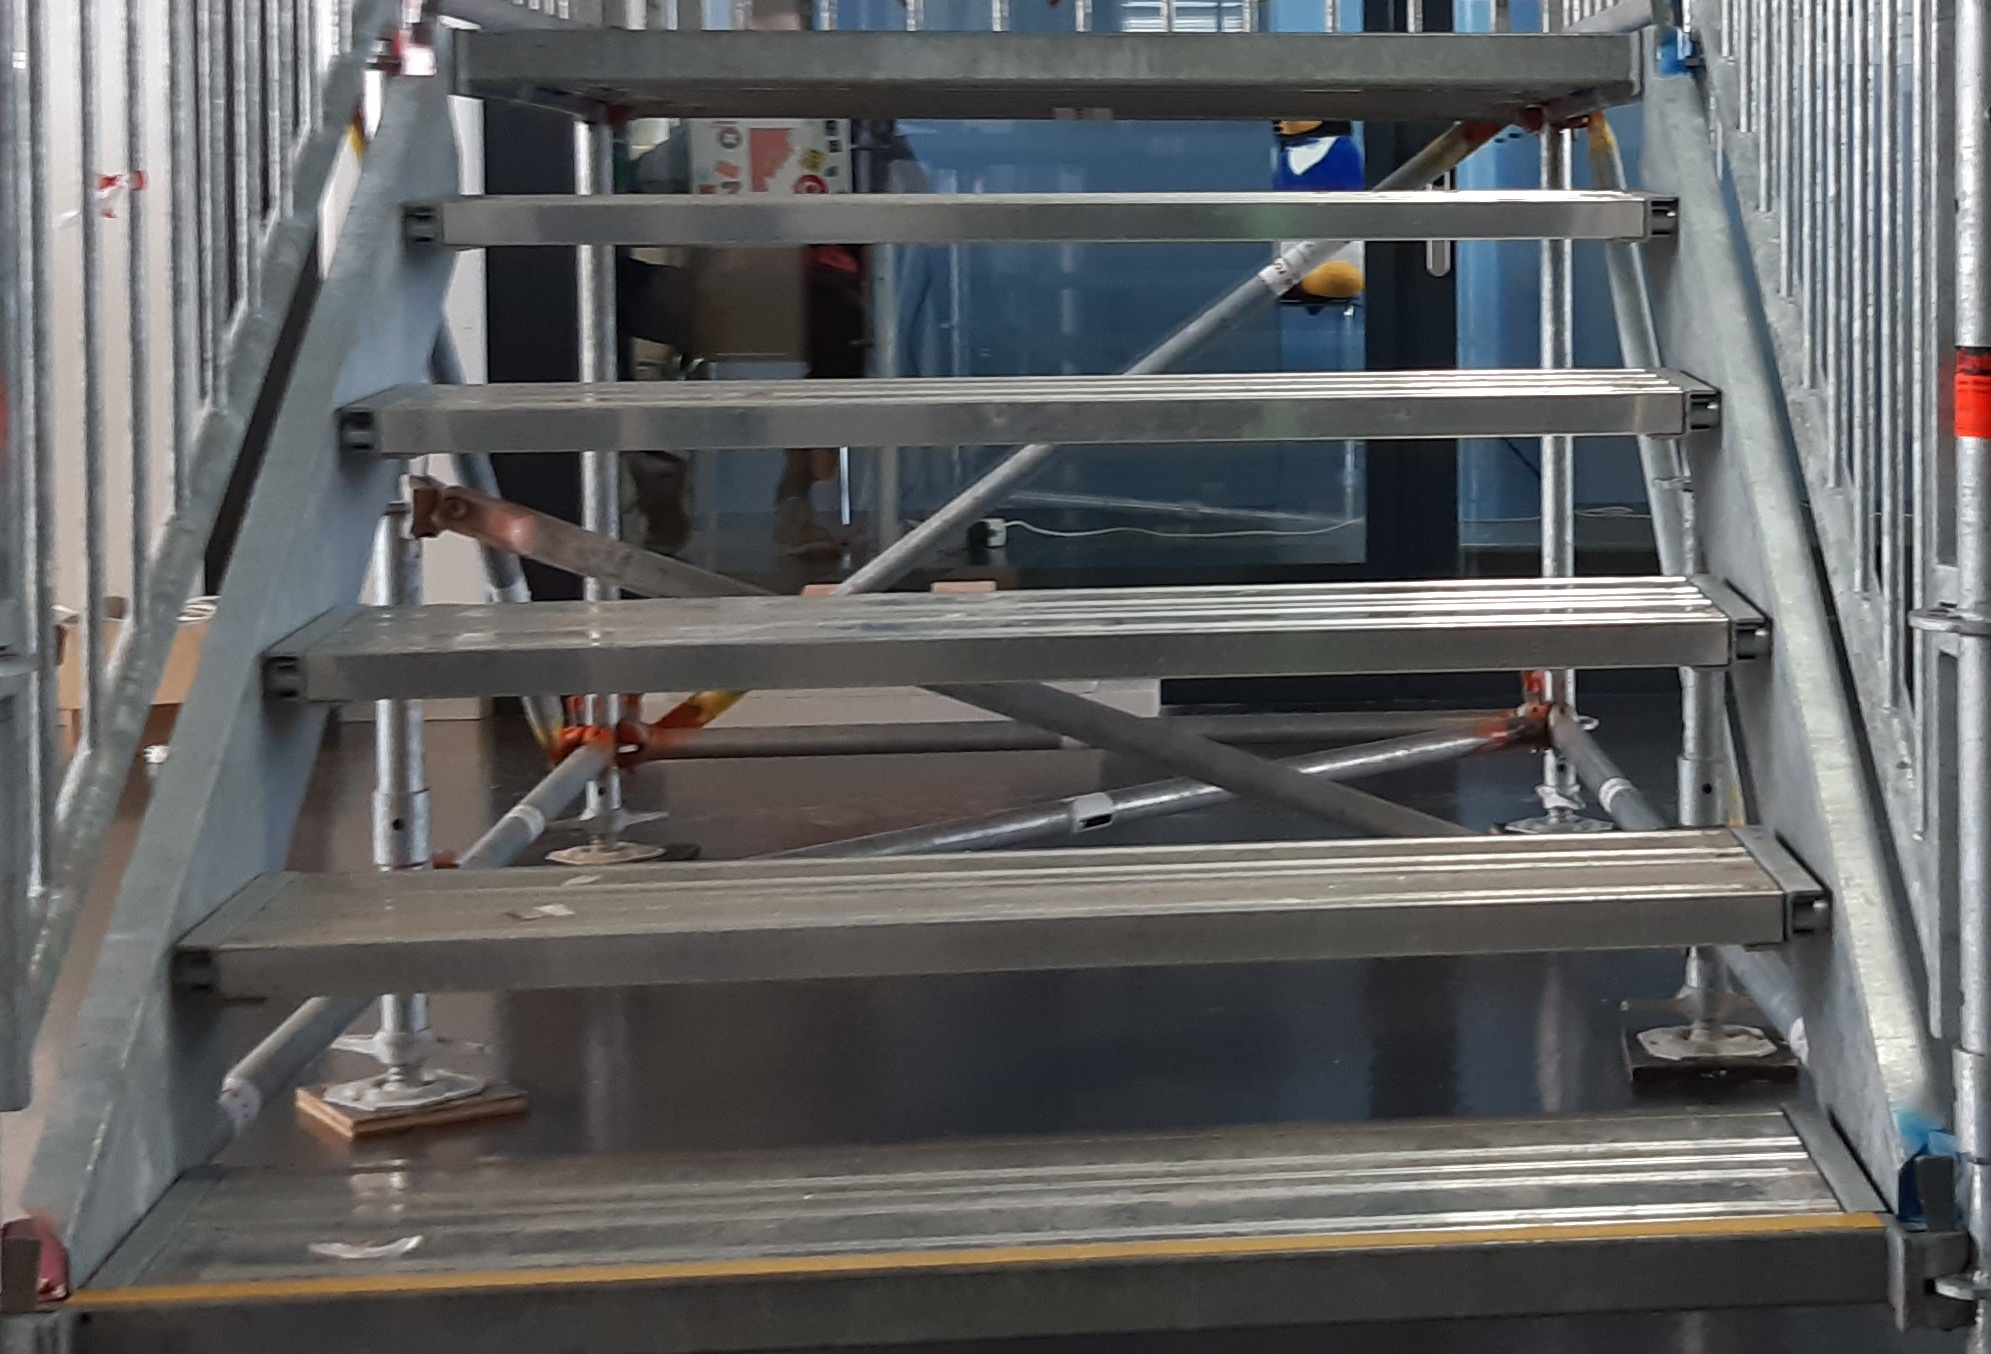edge: (88, 1232, 1884, 1343), (175, 895, 1835, 1000), (252, 623, 1776, 700), (335, 388, 1712, 453), (459, 33, 1638, 88), (415, 196, 1678, 239)
